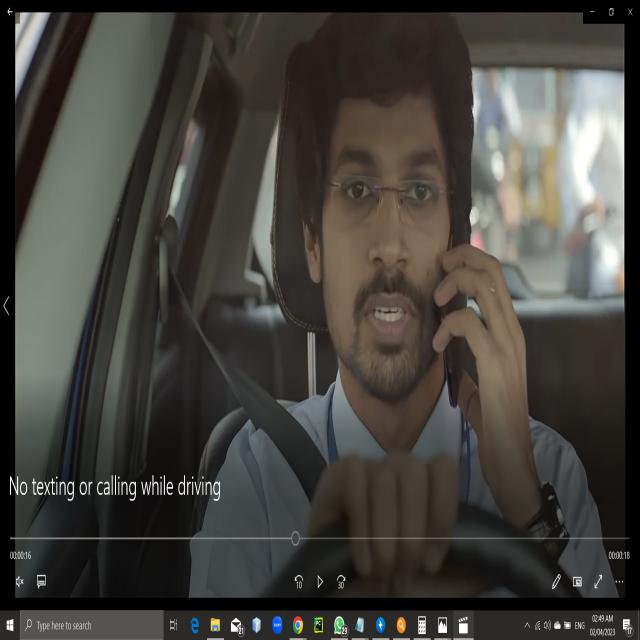using_phone: (388, 204, 516, 418)
